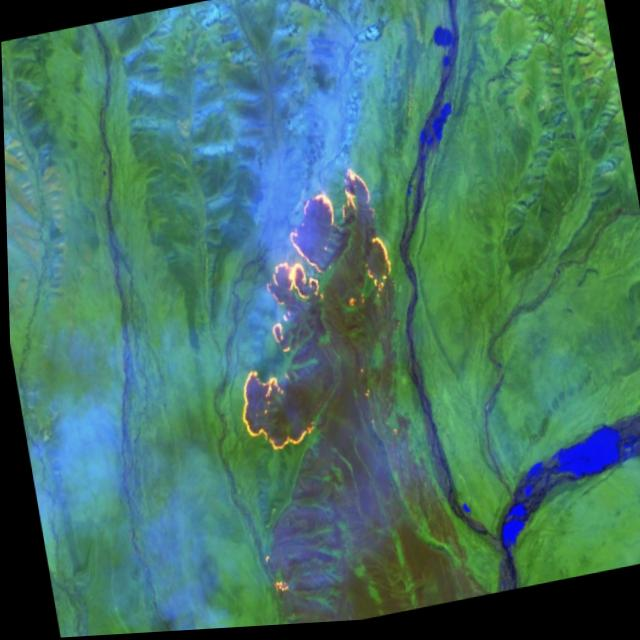fire: (196, 161, 419, 464), (265, 572, 293, 610)
